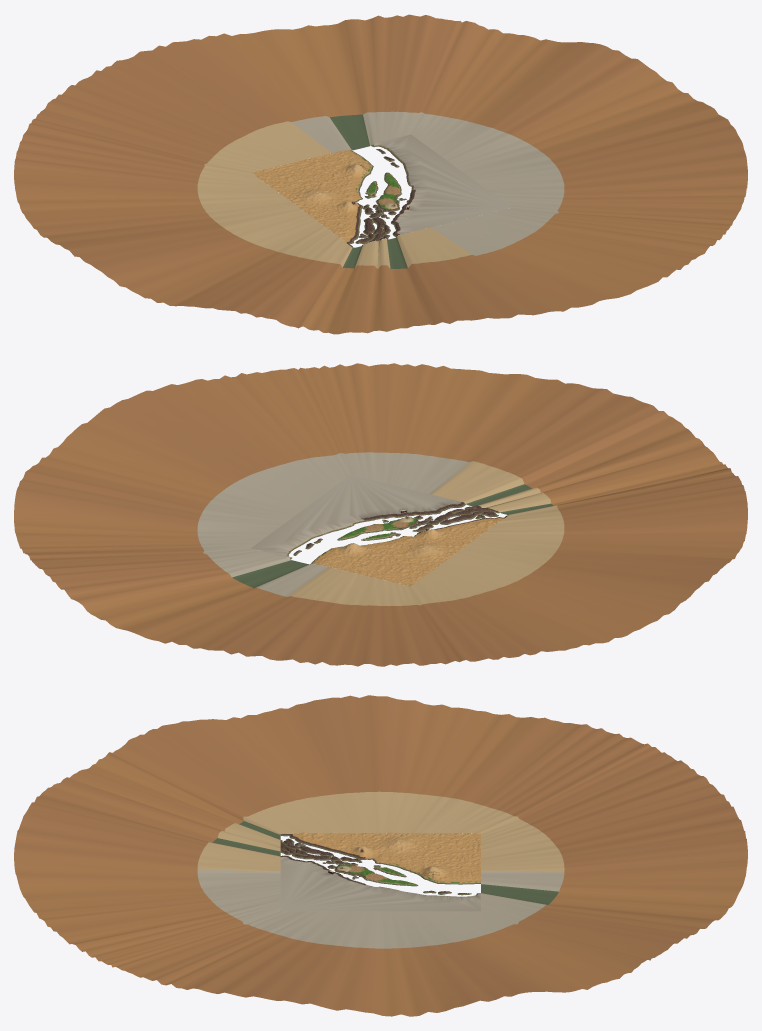
Rendered from world.glb.
The picture shows the model from 3 angles, top to bottom: view 1: azimuth 30°, elevation 25°; view 2: azimuth 150°, elevation 25°; view 3: azimuth 270°, elevation 25°; orthographic projection.
Parts seen in each view (by area): view 1: horizon, terrain; view 2: horizon, terrain; view 3: horizon, terrain.
Part boxes in pixels (x1,y1,x2,y2): horizon: (14, 14, 747, 334); terrain: (252, 134, 510, 247); horizon: (14, 363, 747, 666); terrain: (251, 475, 508, 586); horizon: (14, 695, 747, 1016); terrain: (280, 832, 480, 911).
Size of the model in its own units: 3800 by 139 by 3800.
